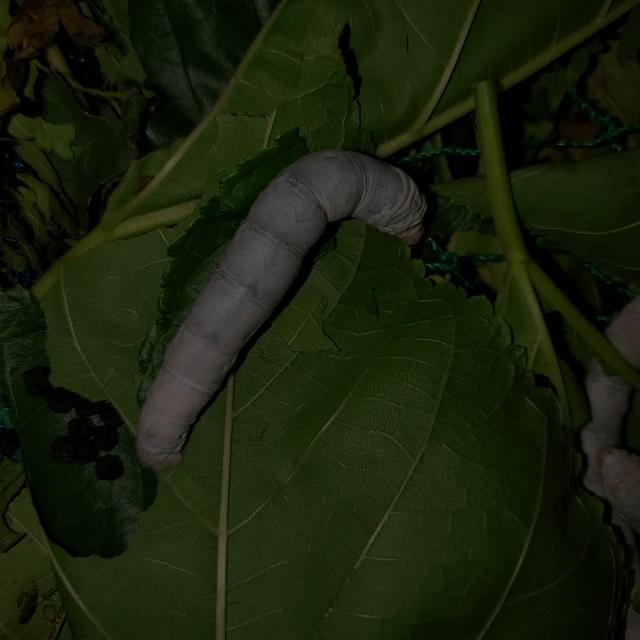Healthy: (117, 111, 470, 498)
